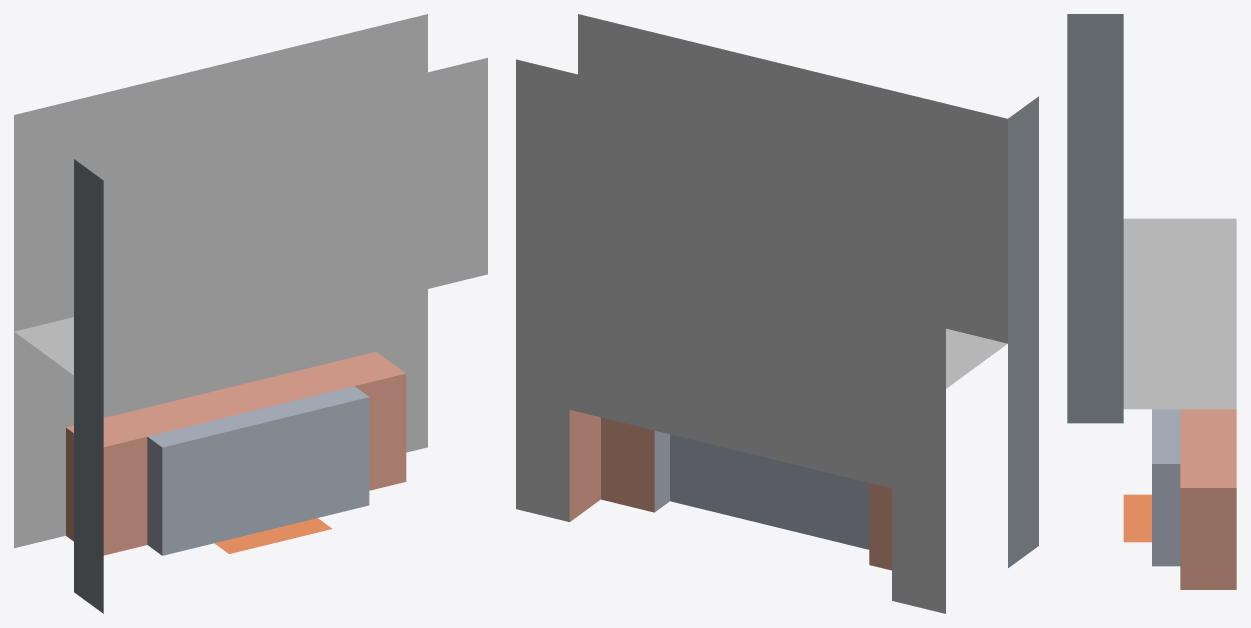
File: cell_289.obj
3 renders of one model, left to right at view 1: azimuth 30°, elevation 25°; view 2: azimuth 150°, elevation 25°; view 3: azimuth 270°, elevation 25°, orthographic. The views are drawn at different scales.
Bounding box in the file's own units: 1 × 1 × 0.375.
